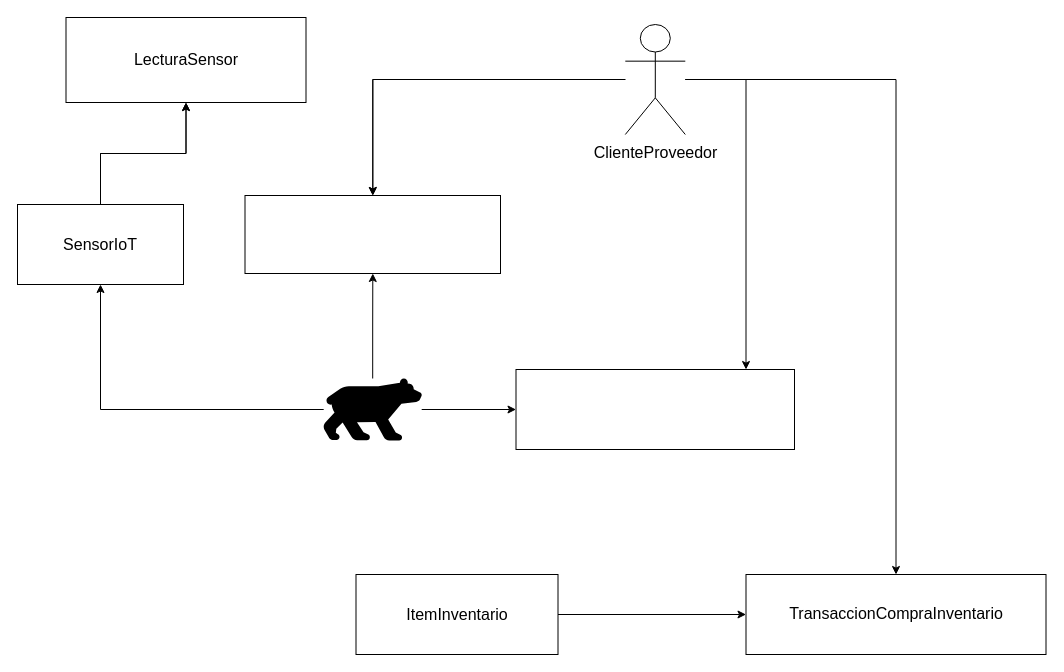
The diagram is 1064 pixels wide and 672 high, and some of its shapes have lost their labels. Each missing label, with the box of its shape:
Ganado: (323, 378, 421, 440)
TransaccionCompraGanado: (244, 194, 500, 274)
TransaccionVentaGanado: (515, 368, 794, 450)
